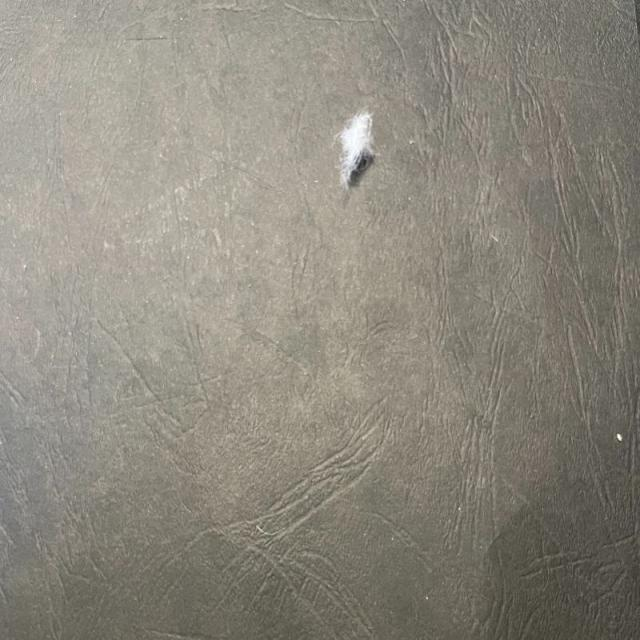feather: (330, 108, 381, 189)
